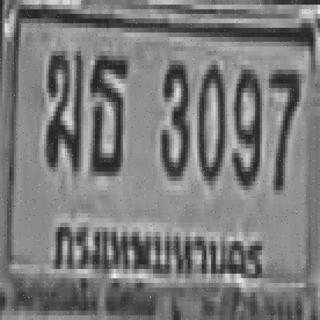A06: (44, 46, 81, 167)
A24: (88, 51, 128, 172)
N00: (197, 60, 222, 181)
N03: (159, 56, 189, 176)
N07: (267, 65, 297, 190)
N09: (231, 65, 261, 186)
P04: (46, 216, 272, 294)
